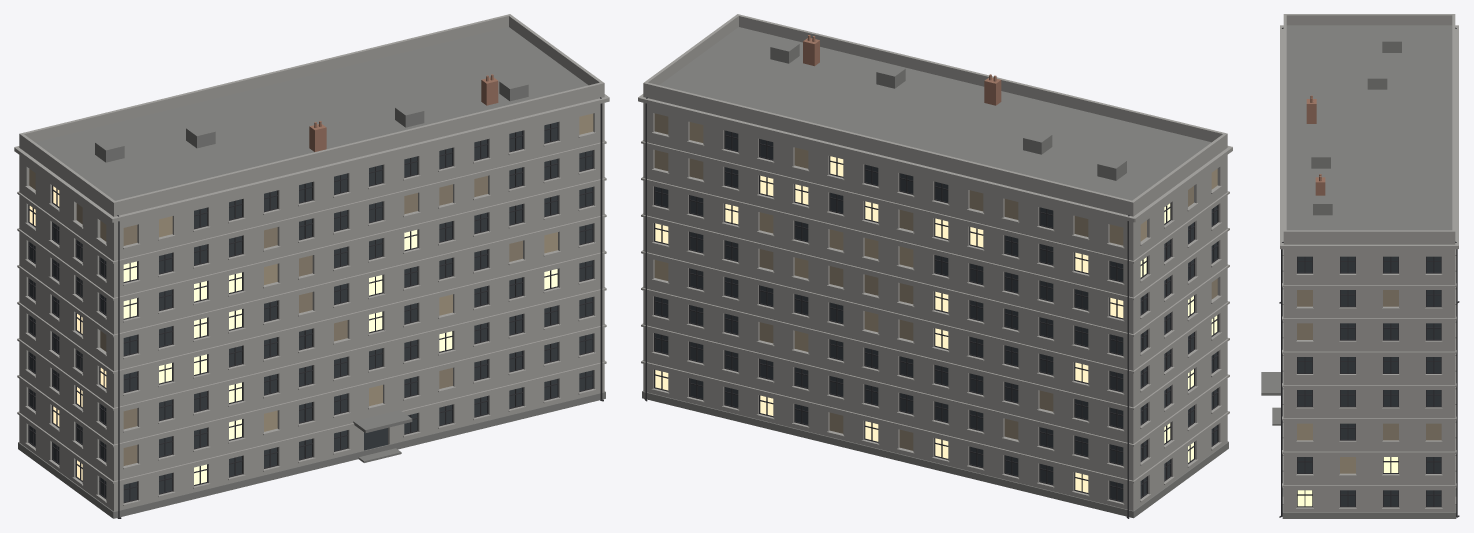
The model's file is victory_mansions.glb.
3 views of the same model, side by side, from view 1: azimuth 30°, elevation 25°; view 2: azimuth 150°, elevation 25°; view 3: azimuth 270°, elevation 25° (orthographic). The views are drawn at different scales.
Visible parts, largest first — view 1: victory_mansions; view 2: victory_mansions; view 3: victory_mansions.
Boxes of the visible parts, x1,y1,x2,y2 form: victory_mansions: [14, 14, 609, 518]; victory_mansions: [638, 14, 1232, 518]; victory_mansions: [1261, 14, 1459, 518].
Bounding box in the file's own units: 42.6 × 27.14 × 16.15.
